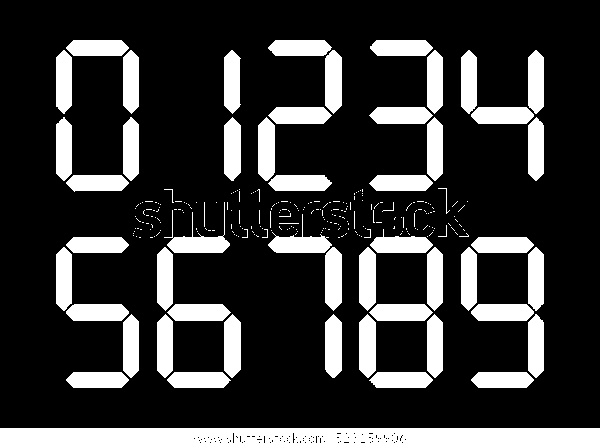eight: (358, 236, 442, 388)
five: (56, 237, 139, 389)
four: (460, 50, 544, 181)
nine: (462, 238, 544, 389)
one: (222, 50, 244, 181)
seven: (266, 237, 343, 379)
six: (156, 237, 241, 388)
three: (370, 37, 443, 190)
two: (258, 40, 341, 191)
zero: (56, 40, 140, 191)
